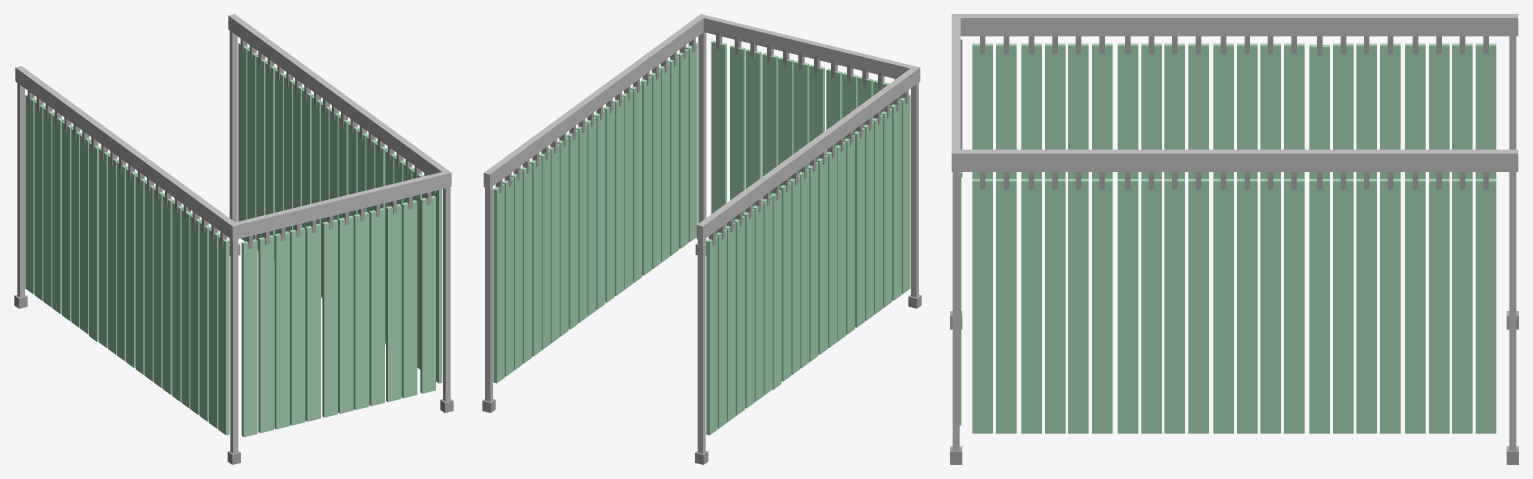
Rendered from screen2.fbx.
3 views of the same model, side by side, from view 1: azimuth 30°, elevation 25°; view 2: azimuth 150°, elevation 25°; view 3: azimuth 270°, elevation 25° (orthographic). The views are drawn at different scales.
Visible parts, largest first — view 1: Null_2; view 2: Null_2; view 3: Null_2.
Part boxes in pixels (box(x1,y1,x2,y2)): Null_2: box(14, 14, 453, 464); Null_2: box(482, 14, 921, 464); Null_2: box(950, 14, 1518, 464).
Size of the model in its own units: 77.86 by 80.04 by 133.
